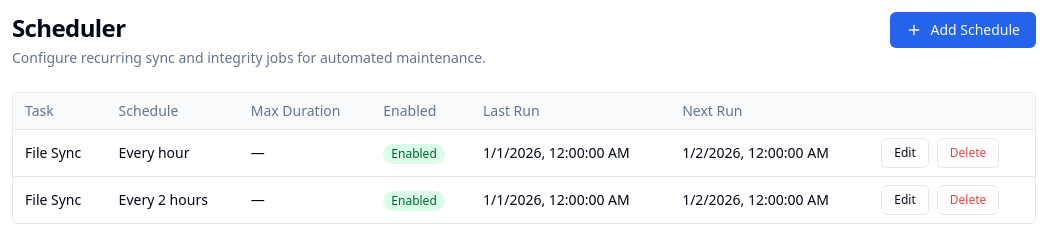
Test: SchedulerPage › toggles enabled state with multiple schedules present
This screenshot has width=1048, height=241.
Expected: the row with test id "schedule-row-1" is shown, [13,130,1035,176]
Expected: the row with test id "schedule-row-2" is shown, [13,176,1035,223]
Click the button "Enabled" in the row of "Every 2 hours": (414,200) [383,190,445,210]
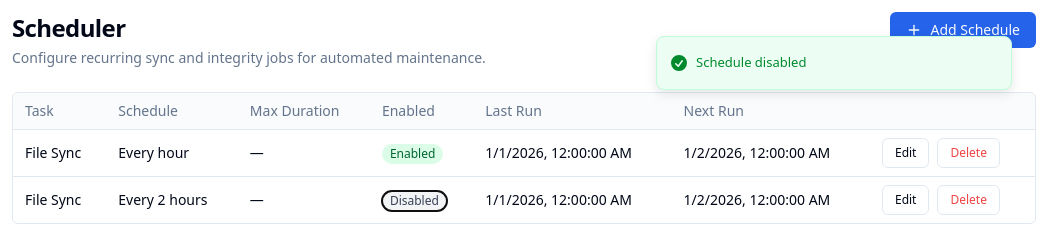
Expected: the row with test id "schedule-row-1" is shown, [13,130,1035,176]
Result: the text "Schedule disabled" is shown at [696,53,806,72]
